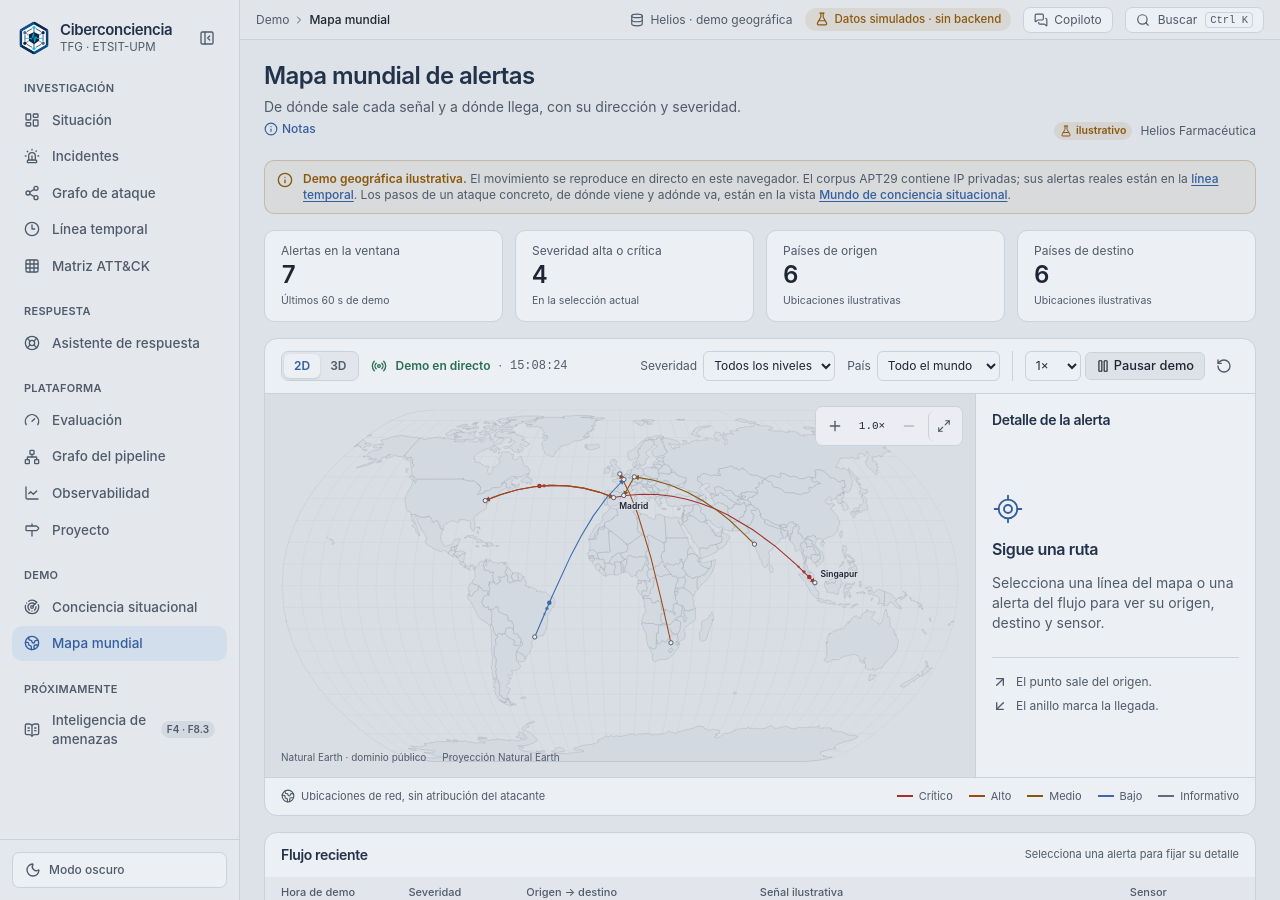
Test: mapa mundial del boceto › declara la simulación, permite pausar y mantiene visible la procedencia
The image size is (1280, 900).
Check: the heading "Mapa mundial de alertas" is shown, box [264,61,534,90]
Check: the text "Demo geográfica ilustrativa." is shown, box [303,171,467,186]
Click the button "Pausar demo" at (1145, 366), box [1085,352,1205,380]
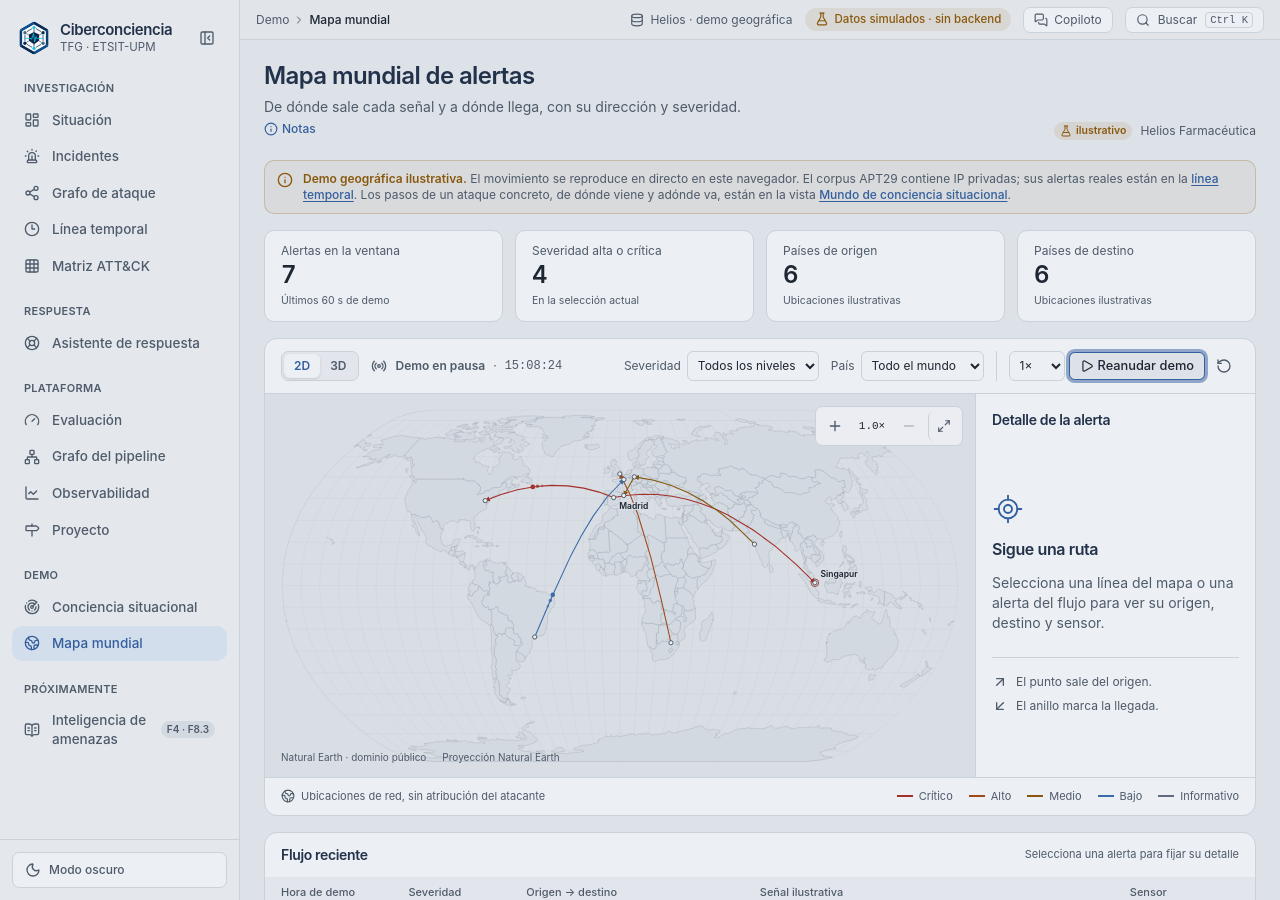
Check: the text "Demo en pausa" is shown, box [396,358,485,374]
Click the button "Reanudar demo" at (1137, 366), box [1068,352,1205,380]
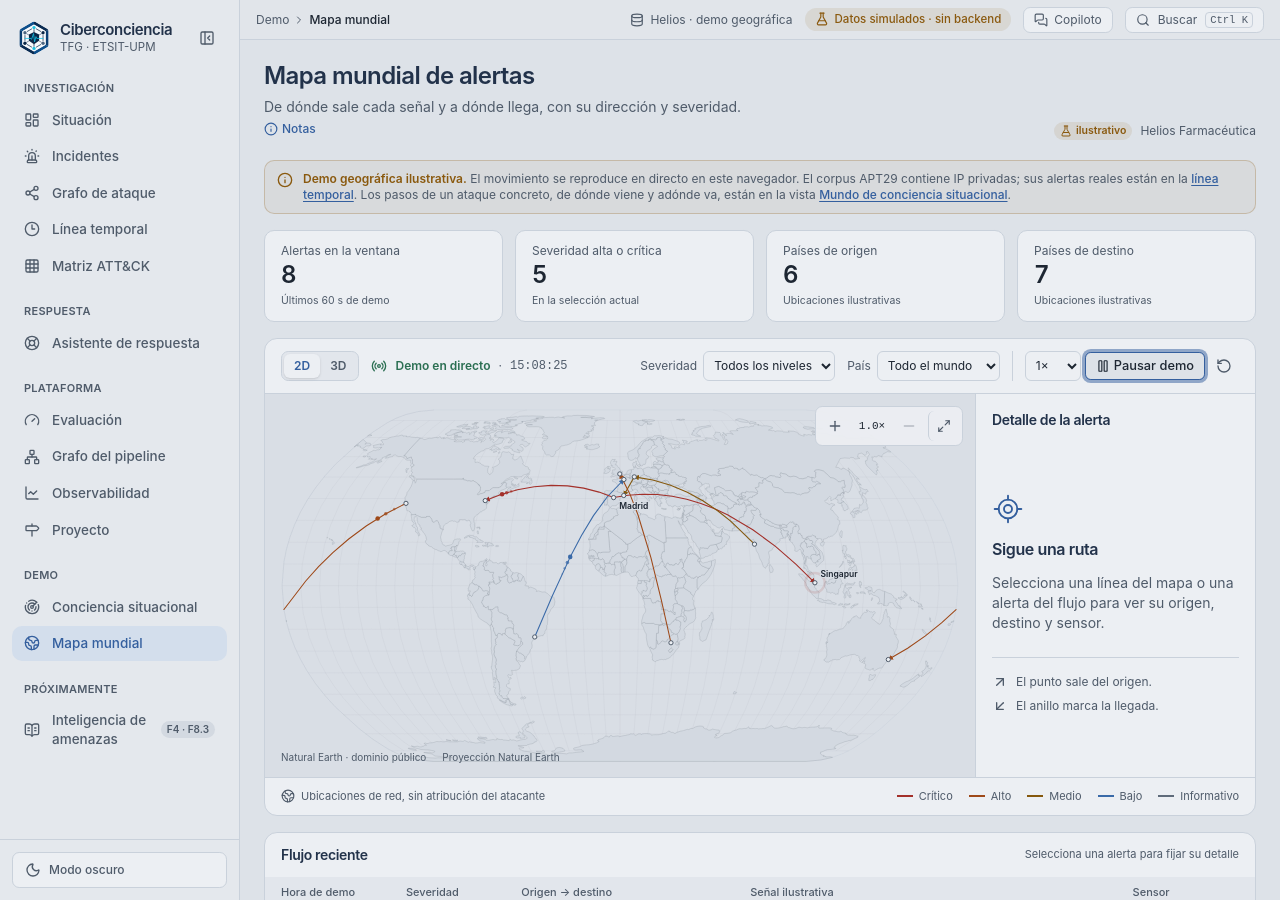
Check: the text "Demo en directo" is shown, box [396,358,490,374]
